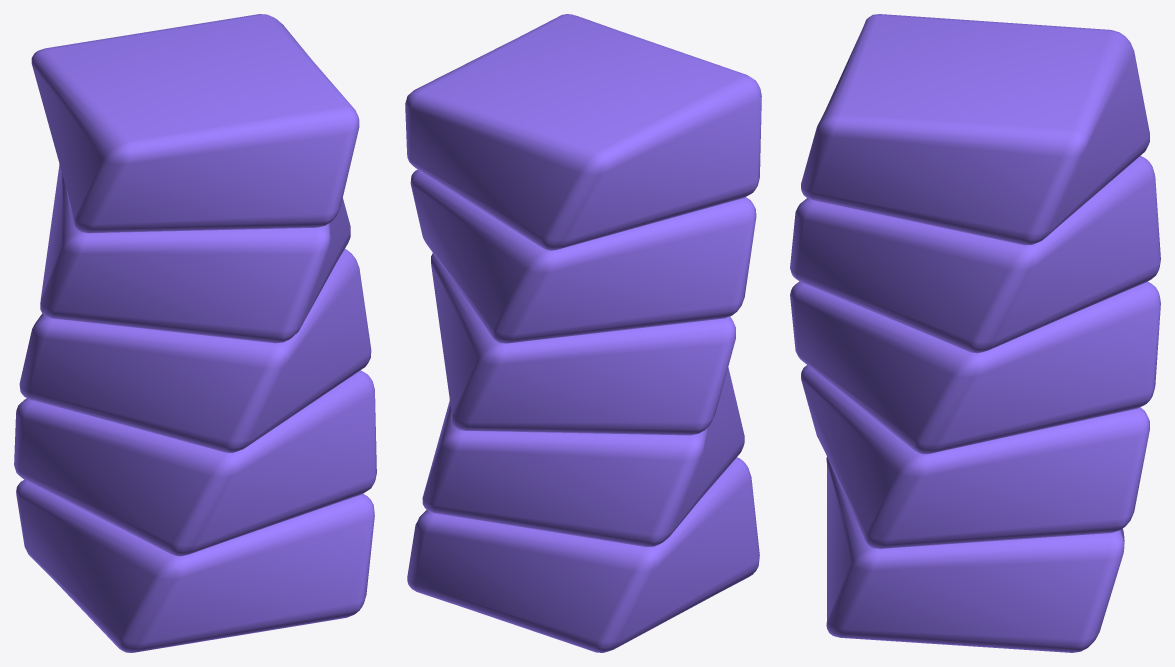
File: twisted-cubes-abstract-shape-animated-3d-icon-495212321593.glb
3 views of the same model, side by side, from view 1: azimuth 30°, elevation 25°; view 2: azimuth 150°, elevation 25°; view 3: azimuth 270°, elevation 25° (orthographic). The views are drawn at different scales.
Parts seen in each view (by area): view 1: Twisted; view 2: Twisted; view 3: Twisted.
Part boxes in pixels (x1=…): Twisted: x1=14, y1=14, x2=376, y2=652; Twisted: x1=405, y1=14, x2=761, y2=652; Twisted: x1=790, y1=14, x2=1160, y2=652.
Size of the model in its own units: 1.28 by 1.98 by 1.28.
